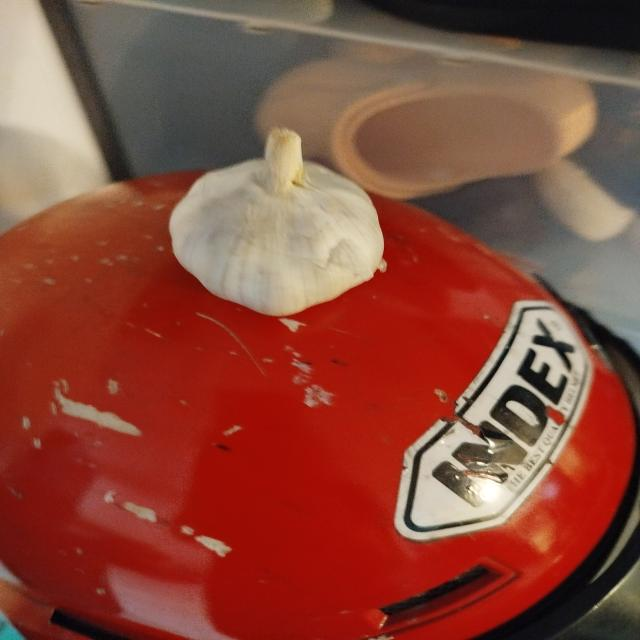garlic: (168, 127, 388, 317)
